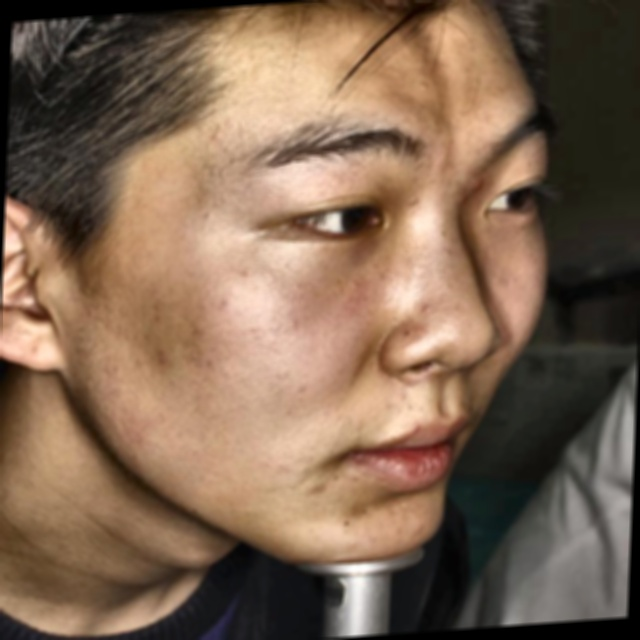comedone: (305, 467, 343, 498)
